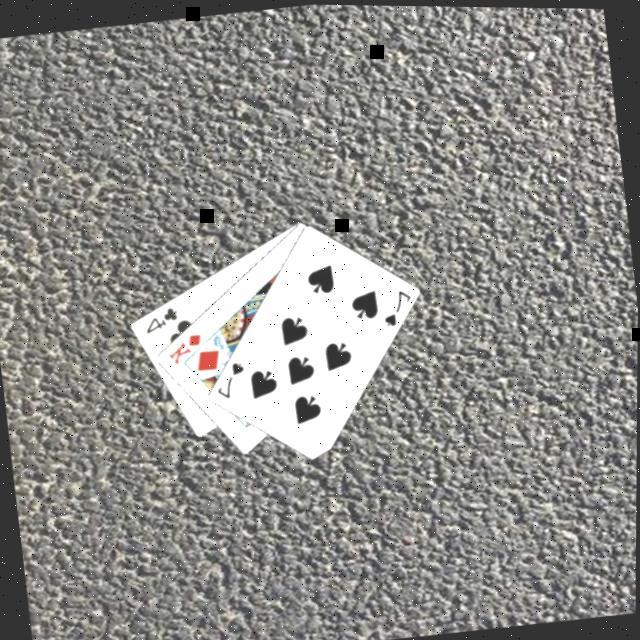4C: (142, 303, 183, 337)
7S: (212, 358, 253, 402), (378, 284, 418, 329)
KD: (165, 328, 209, 369)
